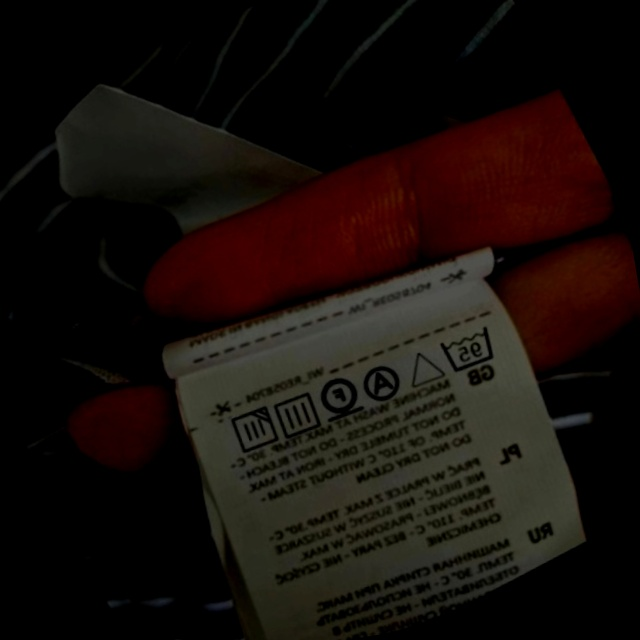95C: (424, 309, 512, 389)
bleach: (391, 332, 456, 401)
drip_dry: (259, 377, 335, 452)
drip_dry_in_shade: (213, 392, 291, 470)
dry_clean: (349, 350, 416, 415)
dry_clean_petrol_only: (302, 358, 375, 434)
